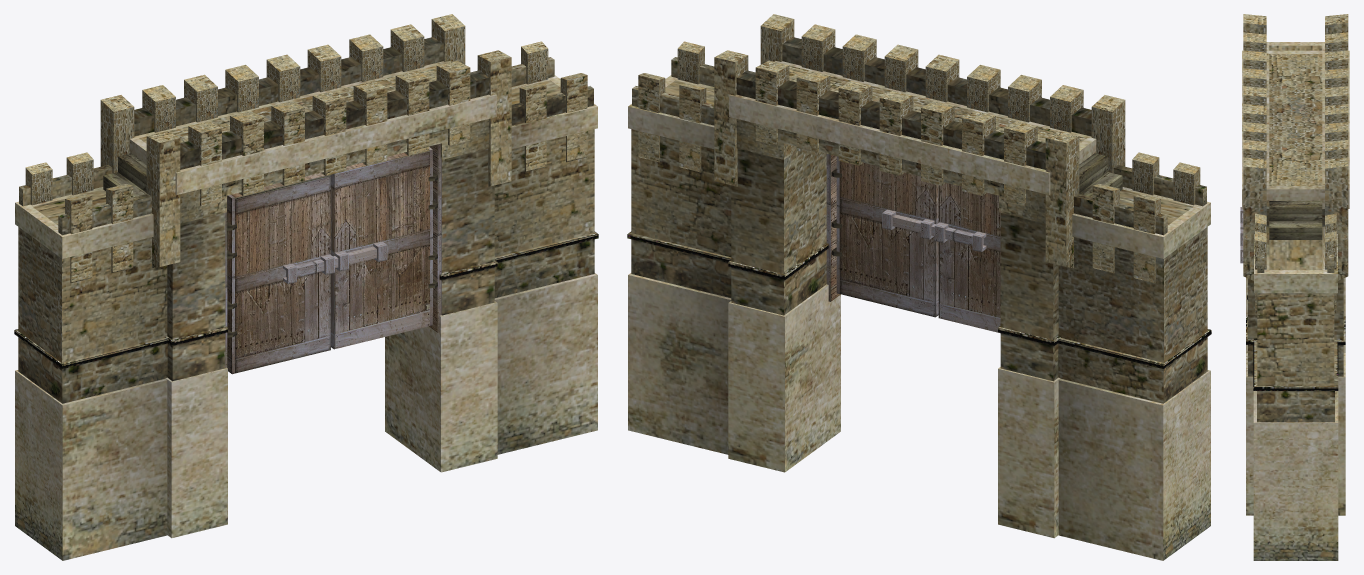
Rendered from mace_gate.glb.
3 renders of one model, left to right at view 1: azimuth 30°, elevation 25°; view 2: azimuth 150°, elevation 25°; view 3: azimuth 270°, elevation 25°, orthographic. The views are drawn at different scales.
Parts seen in each view (by area): view 1: mace_gate_part1, mace_gate_part0; view 2: mace_gate_part1, mace_gate_part0; view 3: mace_gate_part1, mace_gate_part0.
Boxes of the visible parts, left/top/right/bottom form: mace_gate_part1: left=14, top=14, right=598, bottom=560; mace_gate_part0: left=225, top=143, right=441, bottom=374; mace_gate_part1: left=627, top=14, right=1211, bottom=560; mace_gate_part0: left=826, top=154, right=1000, bottom=333; mace_gate_part1: left=1242, top=14, right=1349, bottom=560; mace_gate_part0: left=1240, top=207, right=1243, bottom=263.
Bounding box in the file's own units: 3.8 × 2.71 × 0.7581.
Materials: 2 (2 with a texture image).
